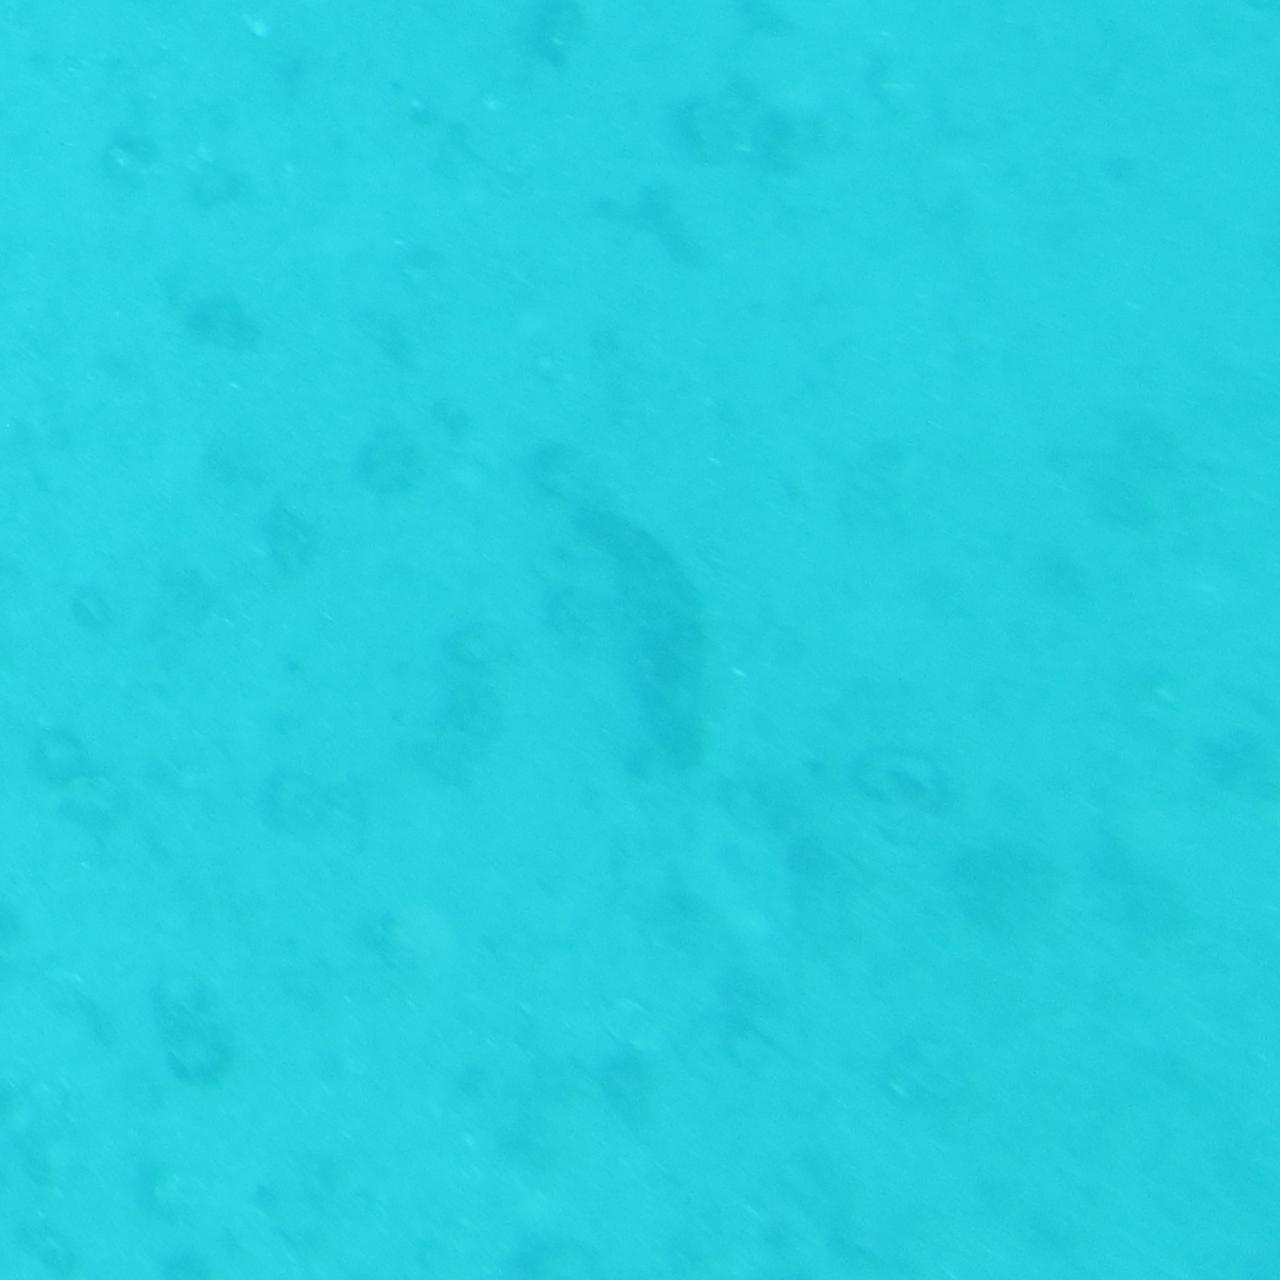Holothuria tubulosa: (567, 490, 713, 790)
